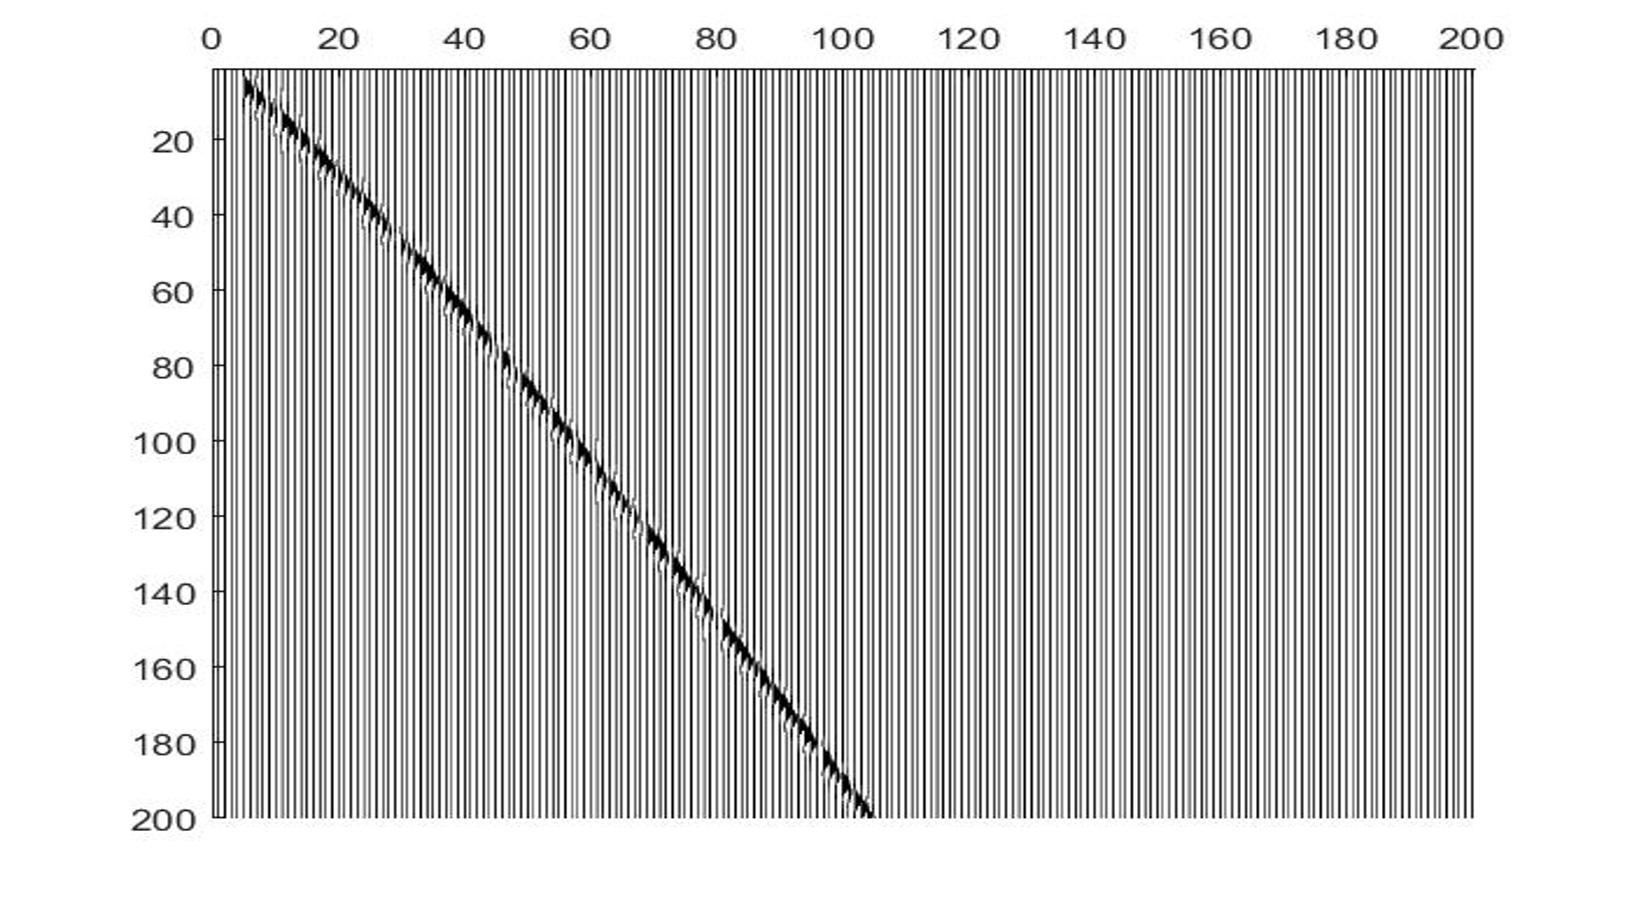signal: (232, 71, 879, 816)
